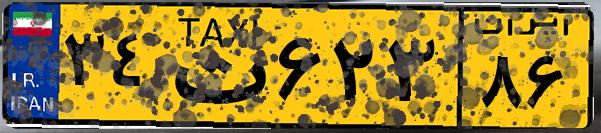2: (330, 28, 385, 110)
3: (385, 28, 445, 110), (57, 26, 110, 100)
4: (110, 28, 158, 98)
6: (270, 28, 330, 110), (525, 38, 570, 115)
8: (475, 38, 525, 113)
ت: (158, 12, 270, 120)
